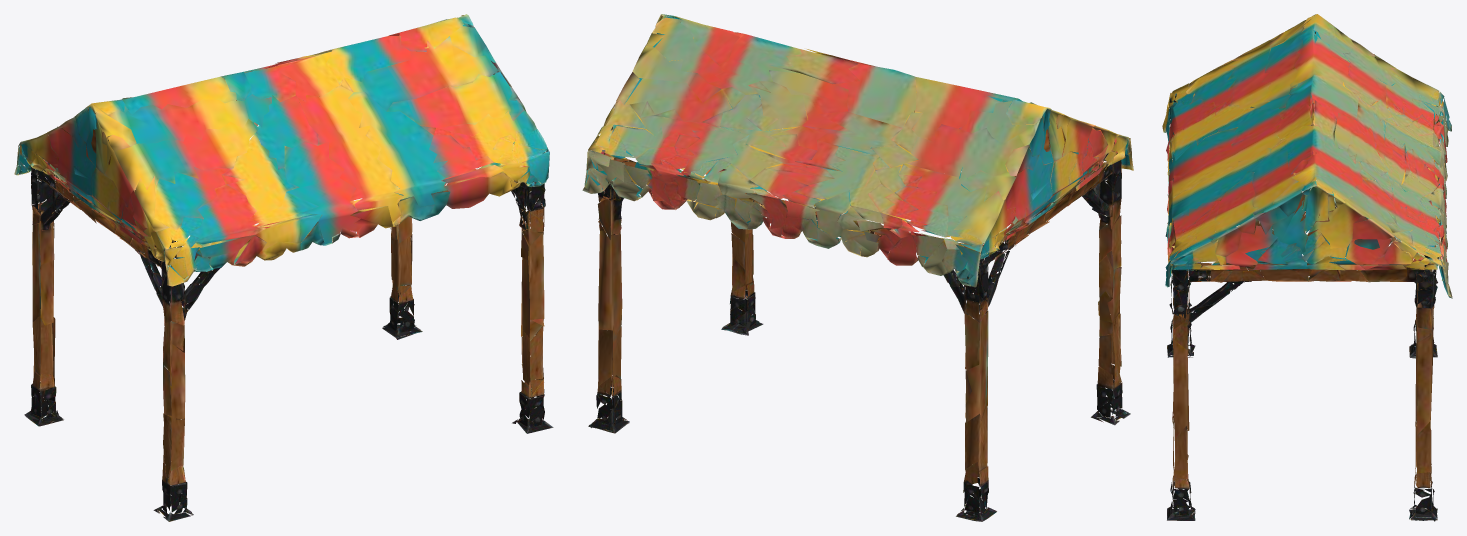
The model's file is market-awning.glb.
3 views of the same model, side by side, from view 1: azimuth 30°, elevation 25°; view 2: azimuth 150°, elevation 25°; view 3: azimuth 270°, elevation 25° (orthographic). The views are drawn at different scales.
Parts seen in each view (by area): view 1: Mesh_0; view 2: Mesh_0; view 3: Mesh_0.
Part boxes in pixels (bbox=[...]): Mesh_0: bbox=[14, 14, 553, 521]; Mesh_0: bbox=[582, 14, 1133, 521]; Mesh_0: bbox=[1162, 14, 1452, 521].
Bounding box in the file's own units: 1.91 × 1.68 × 1.32.
Materials: 1 (1 with a texture image).
